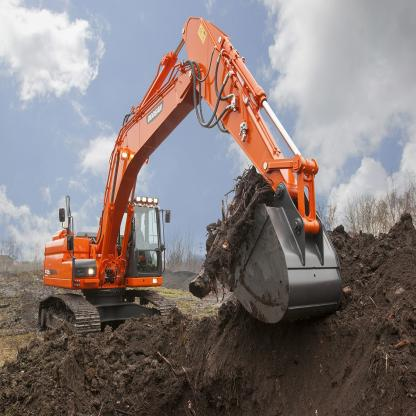excavator: (34, 9, 359, 384)
